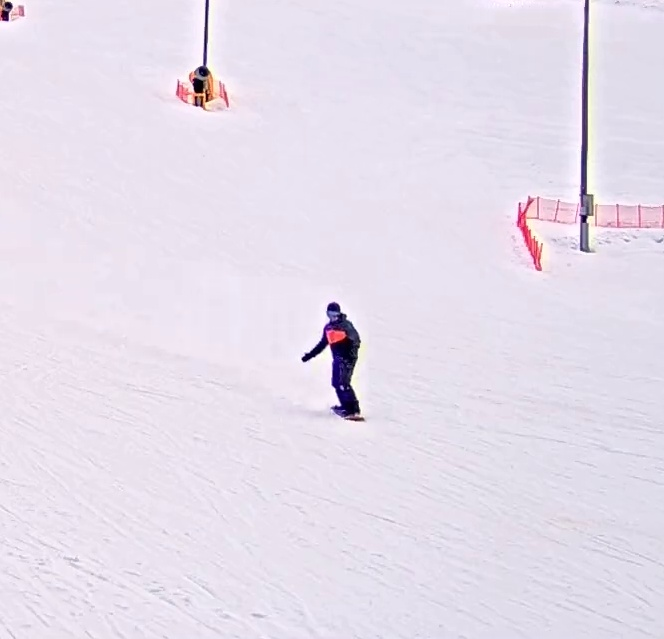snowboarder: (298, 299, 370, 427)
